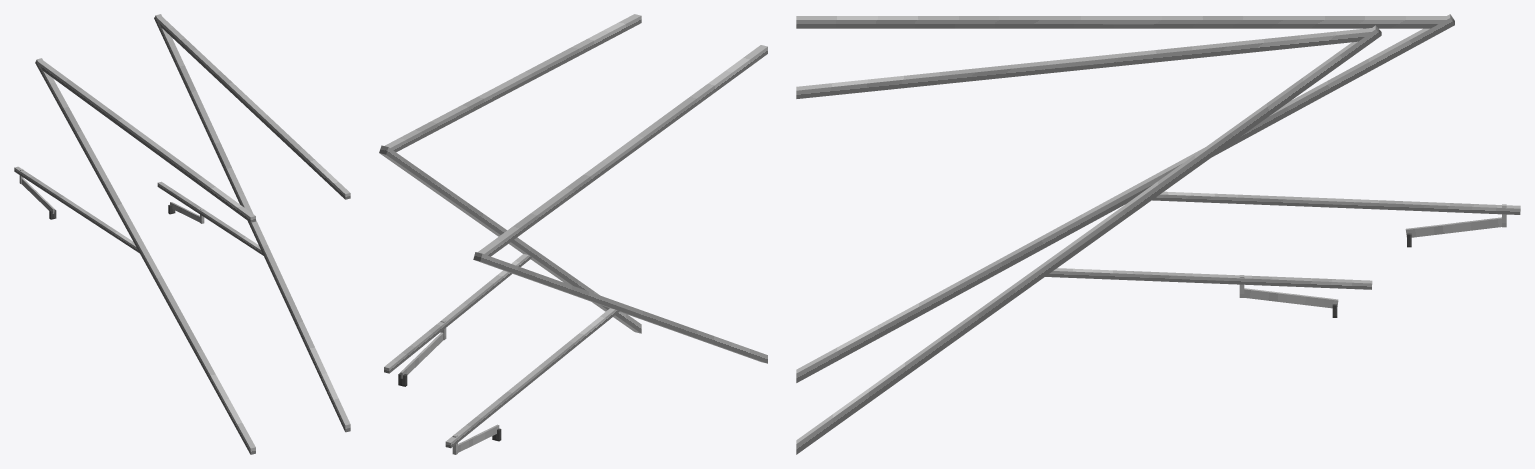
The model's file is cantilever_center_4px.obj.
3 renders of one model, left to right at view 1: azimuth 30°, elevation 25°; view 2: azimuth 150°, elevation 25°; view 3: azimuth 270°, elevation 25°, orthographic. The views are drawn at different scales.
Parts seen in each view (by area): view 1: 87feeb53-44c5-432b-ae16-43b1101f94da, 59f78e5d-5769-492a-9944-7d9cf61cd4bf, 79f63cb6-6d9a-49bb-9643-388bd8d99c71, ce420848-38b4-4a87-9b3f-cf6ade6541bc, f690e366-b2dd-4015-ad03-d3815892e388, 7502ca5d-b647-4dbf-97df-b1a180bd3686; view 2: 79f63cb6-6d9a-49bb-9643-388bd8d99c71, ce420848-38b4-4a87-9b3f-cf6ade6541bc, 87feeb53-44c5-432b-ae16-43b1101f94da, 59f78e5d-5769-492a-9944-7d9cf61cd4bf, f690e366-b2dd-4015-ad03-d3815892e388, 7502ca5d-b647-4dbf-97df-b1a180bd3686, 0c9e278d-046f-4a68-b69a-ef85ea78bbdc; view 3: 59f78e5d-5769-492a-9944-7d9cf61cd4bf, 79f63cb6-6d9a-49bb-9643-388bd8d99c71, 87feeb53-44c5-432b-ae16-43b1101f94da, ce420848-38b4-4a87-9b3f-cf6ade6541bc, f690e366-b2dd-4015-ad03-d3815892e388, 7502ca5d-b647-4dbf-97df-b1a180bd3686, 0eefbb3e-8806-41ef-a778-7572fc3f61e0, 0c9e278d-046f-4a68-b69a-ef85ea78bbdc.
Part boxes in pixels (x1=…): 87feeb53-44c5-432b-ae16-43b1101f94da: x1=35, y1=58, x2=255, y2=454; 59f78e5d-5769-492a-9944-7d9cf61cd4bf: x1=154, y1=14, x2=350, y2=432; 79f63cb6-6d9a-49bb-9643-388bd8d99c71: x1=38, y1=60, x2=255, y2=222; ce420848-38b4-4a87-9b3f-cf6ade6541bc: x1=157, y1=16, x2=350, y2=199; f690e366-b2dd-4015-ad03-d3815892e388: x1=14, y1=166, x2=139, y2=253; 7502ca5d-b647-4dbf-97df-b1a180bd3686: x1=157, y1=181, x2=263, y2=255; 79f63cb6-6d9a-49bb-9643-388bd8d99c71: x1=477, y1=45, x2=767, y2=256; ce420848-38b4-4a87-9b3f-cf6ade6541bc: x1=385, y1=14, x2=641, y2=152; 87feeb53-44c5-432b-ae16-43b1101f94da: x1=473, y1=252, x2=767, y2=363; 59f78e5d-5769-492a-9944-7d9cf61cd4bf: x1=379, y1=145, x2=641, y2=333; f690e366-b2dd-4015-ad03-d3815892e388: x1=445, y1=308, x2=619, y2=448; 7502ca5d-b647-4dbf-97df-b1a180bd3686: x1=384, y1=254, x2=531, y2=373; 0c9e278d-046f-4a68-b69a-ef85ea78bbdc: x1=400, y1=332, x2=443, y2=378; 59f78e5d-5769-492a-9944-7d9cf61cd4bf: x1=796, y1=25, x2=1381, y2=454; 79f63cb6-6d9a-49bb-9643-388bd8d99c71: x1=796, y1=16, x2=1446, y2=28; 87feeb53-44c5-432b-ae16-43b1101f94da: x1=796, y1=14, x2=1454, y2=382; ce420848-38b4-4a87-9b3f-cf6ade6541bc: x1=796, y1=28, x2=1371, y2=98; f690e366-b2dd-4015-ad03-d3815892e388: x1=1152, y1=191, x2=1520, y2=214; 7502ca5d-b647-4dbf-97df-b1a180bd3686: x1=1045, y1=268, x2=1372, y2=289; 0eefbb3e-8806-41ef-a778-7572fc3f61e0: x1=1405, y1=217, x2=1501, y2=237; 0c9e278d-046f-4a68-b69a-ef85ea78bbdc: x1=1244, y1=288, x2=1338, y2=308.
Bounding box in the file's own units: 1.19 × 3.16 × 4.87.
